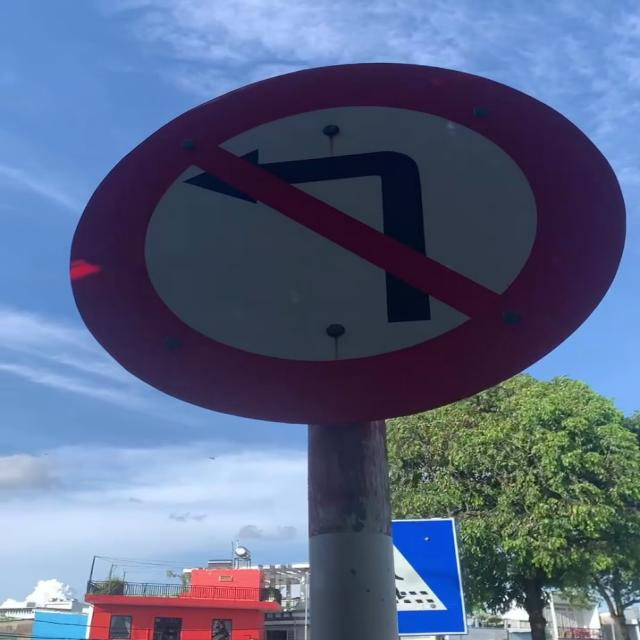Cam_Re_Trai: (78, 59, 625, 432)
